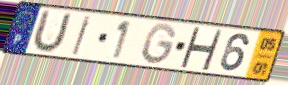1: (111, 19, 132, 60)
6: (218, 32, 251, 73)
G: (140, 22, 179, 67)
H: (178, 25, 224, 72)
I: (70, 14, 94, 57)
U: (29, 9, 74, 55)
